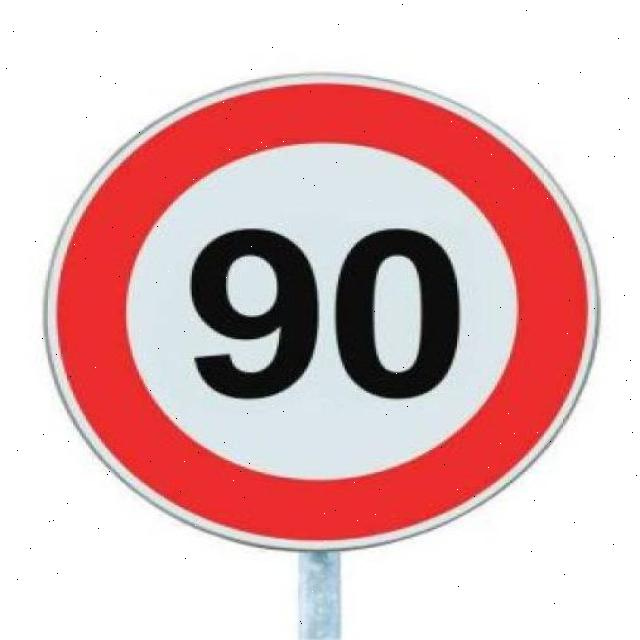speed limit 90: (38, 71, 602, 553)
